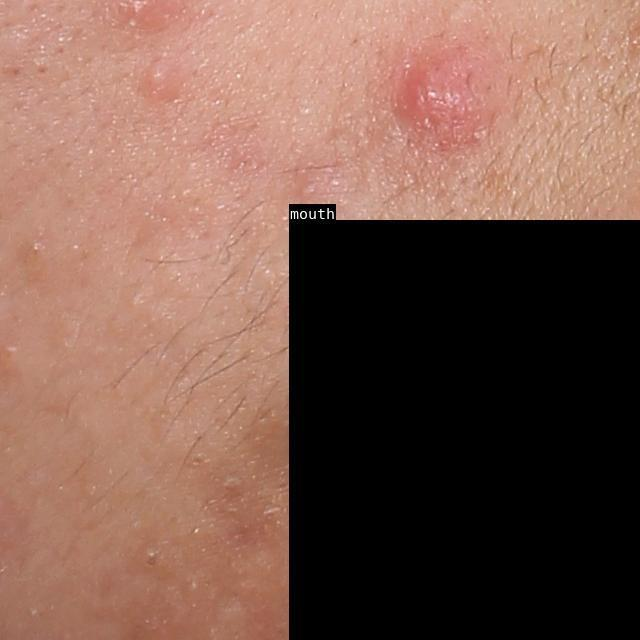papule: (401, 58, 488, 151), (143, 61, 179, 96)
